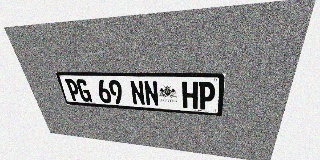6: (95, 79, 112, 103)
9: (107, 80, 124, 104)
G: (75, 79, 93, 102)
H: (182, 81, 198, 109)
N: (129, 80, 146, 105), (143, 80, 159, 106)
P: (198, 82, 216, 110), (64, 79, 82, 101)
